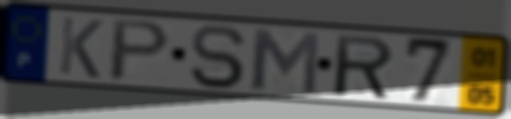7: (402, 33, 455, 107)
K: (56, 14, 106, 81)
M: (249, 26, 323, 98)
P: (105, 18, 175, 84)
R: (333, 32, 397, 102)
S: (187, 23, 249, 92)
